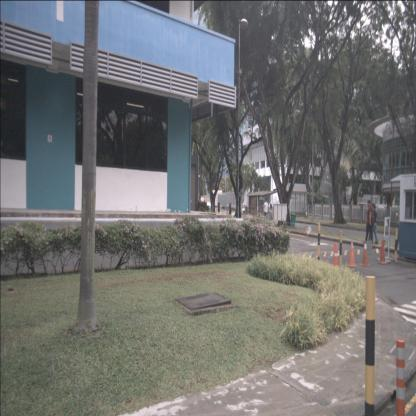human-pedestrian-adult: (363, 200, 375, 247), (370, 203, 379, 244), (262, 198, 268, 224), (268, 203, 273, 225), (228, 202, 232, 218), (218, 202, 221, 214), (218, 202, 219, 214)
movable_object-trafficcone: (393, 339, 408, 415), (348, 240, 358, 267), (360, 239, 370, 266), (378, 240, 388, 264), (332, 242, 340, 268)
